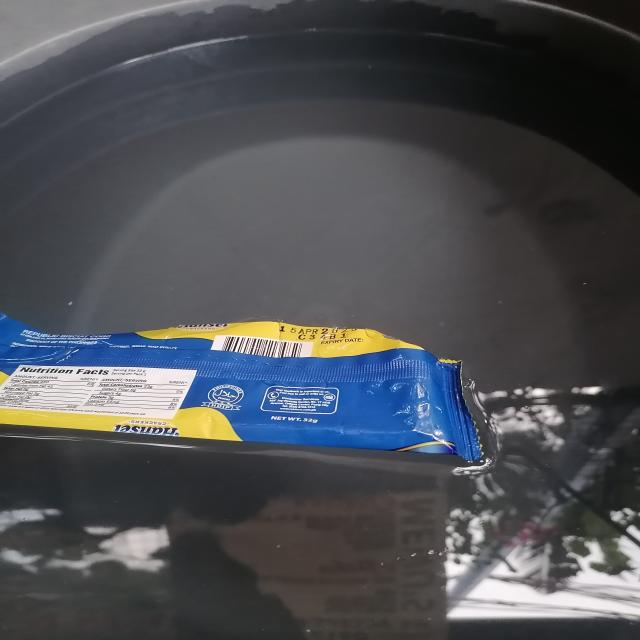Plastic Wrapper: (0, 315, 494, 474)
